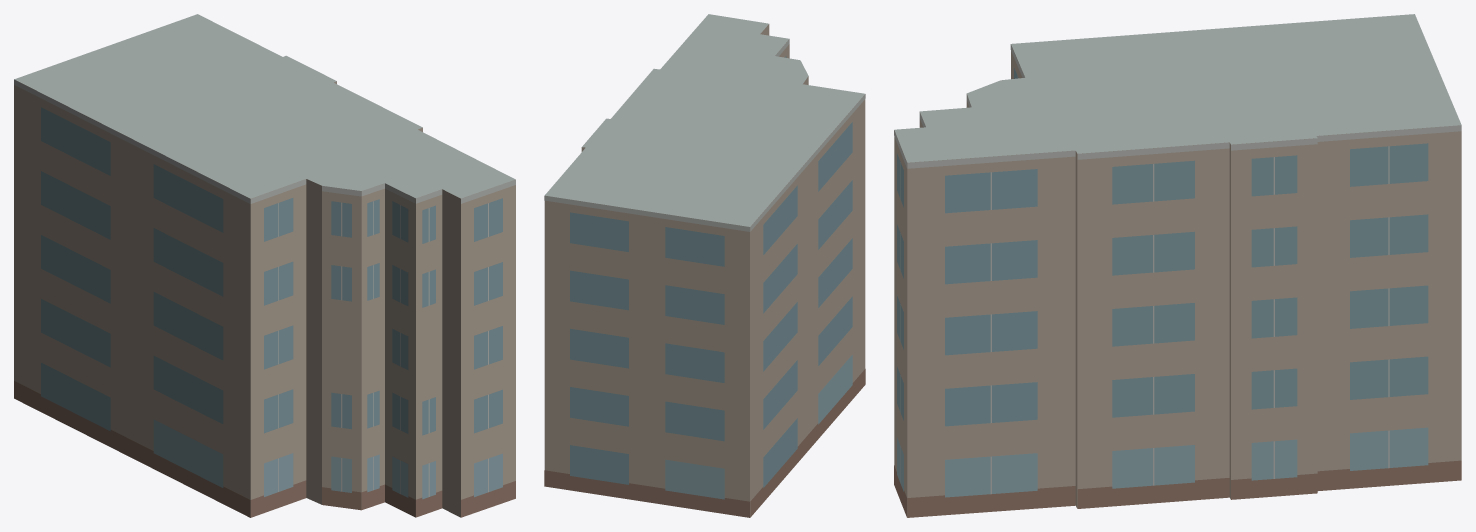
The model's file is survey-upis-32667257.glb.
3 views of the same model, side by side, from view 1: azimuth 30°, elevation 25°; view 2: azimuth 150°, elevation 25°; view 3: azimuth 270°, elevation 25° (orthographic). The views are drawn at different scales.
Visible parts, largest first — view 1: survey-upis-32667257.tmp; view 2: survey-upis-32667257.tmp; view 3: survey-upis-32667257.tmp.
Part boxes in pixels (x1,y1,x2,y2): survey-upis-32667257.tmp: (14, 14, 515, 517); survey-upis-32667257.tmp: (544, 14, 865, 517); survey-upis-32667257.tmp: (894, 14, 1461, 517).
Size of the model in its own units: 12.85 by 14.3 by 20.72.
